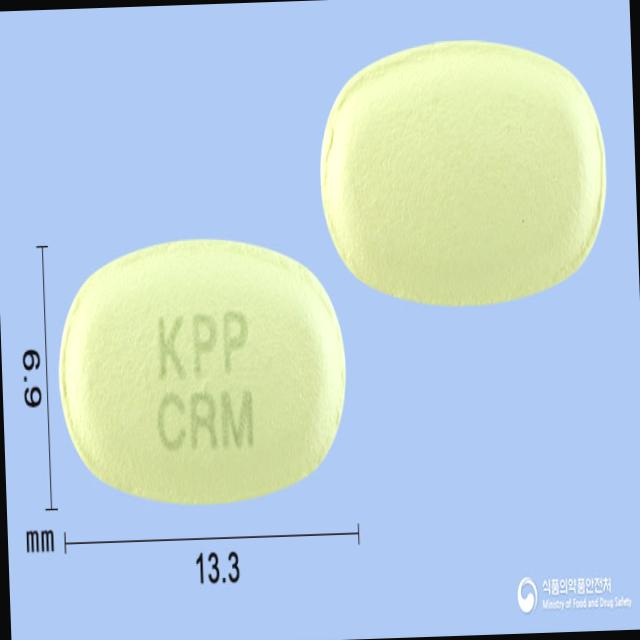Crema: (51, 235, 350, 508)
